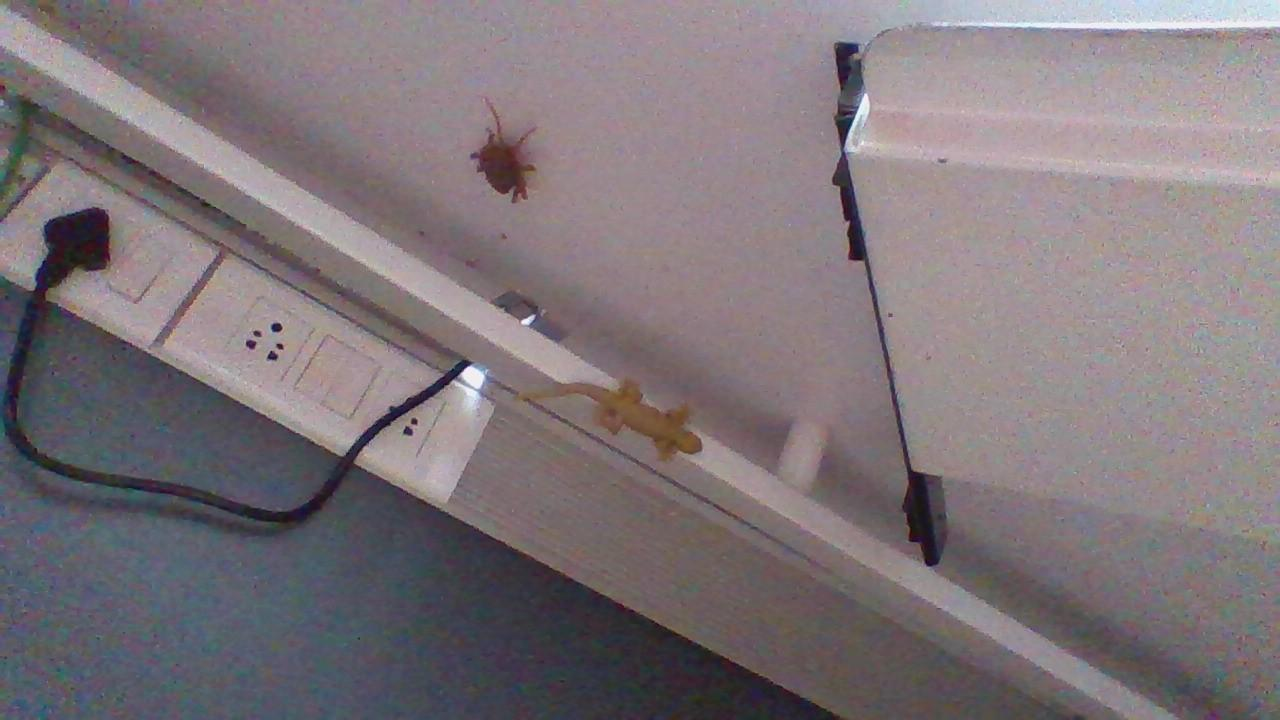cockroach: (462, 89, 545, 229)
lizard: (497, 365, 725, 473)
